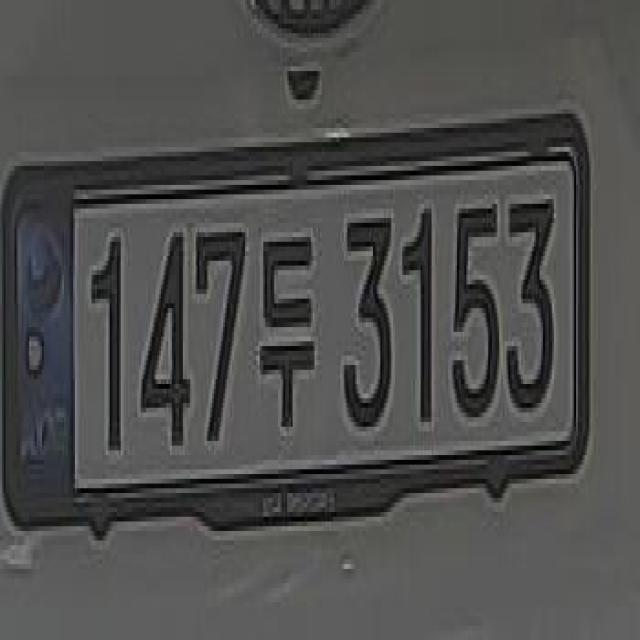illegal_plate: (7, 127, 607, 538)
